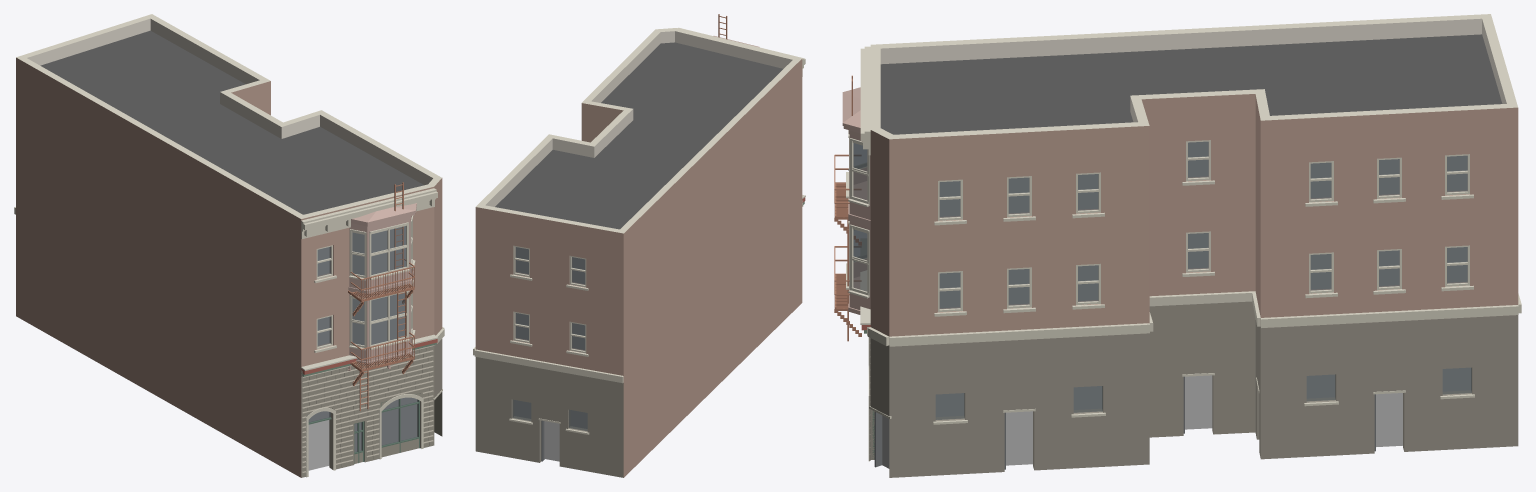
Rendered from exterior.glb.
The picture shows the model from 3 angles, left to right: view 1: azimuth 30°, elevation 25°; view 2: azimuth 150°, elevation 25°; view 3: azimuth 270°, elevation 25°; orthographic projection. The views are drawn at different scales.
Parts seen in each view (by area): view 1: shell, roof, shadow-proxy, bay-glazing-hyb, bay-windows-hyb, hyD-rubble-7, fire-escape, glazing, trim, storefront, hyC-arches-7, hand-ornament (+1 smaller); view 2: shell, roof, shadow-proxy, glazing, trim, frames; view 3: shell, roof, shadow-proxy, glazing, trim, frames, bay-glazing-hyb, bay-windows-hyb, fire-escape, storefront.
Part boxes in pixels (x1=…): shell: x1=16, y1=14, x2=442, y2=477; roof: x1=40, y1=30, x2=423, y2=214; shadow-proxy: x1=308, y1=226, x2=416, y2=470; bay-glazing-hyb: x1=349, y1=215, x2=415, y2=350; bay-windows-hyb: x1=347, y1=203, x2=416, y2=370; hyD-rubble-7: x1=302, y1=345, x2=433, y2=472; fire-escape: x1=348, y1=182, x2=414, y2=411; glazing: x1=308, y1=246, x2=418, y2=452; trim: x1=14, y1=188, x2=444, y2=377; storefront: x1=308, y1=389, x2=442, y2=463; hyC-arches-7: x1=306, y1=393, x2=423, y2=477; hand-ornament: x1=301, y1=334, x2=438, y2=376; shell: x1=475, y1=28, x2=802, y2=477; roof: x1=495, y1=42, x2=782, y2=229; shadow-proxy: x1=514, y1=247, x2=587, y2=461; glazing: x1=512, y1=247, x2=587, y2=430; trim: x1=473, y1=27, x2=805, y2=434; frames: x1=513, y1=245, x2=586, y2=353; shell: x1=870, y1=14, x2=1518, y2=477; roof: x1=880, y1=34, x2=1502, y2=134; shadow-proxy: x1=882, y1=142, x2=1470, y2=468; glazing: x1=935, y1=141, x2=1471, y2=419; trim: x1=860, y1=46, x2=1521, y2=424; frames: x1=938, y1=140, x2=1469, y2=312; bay-glazing-hyb: x1=846, y1=130, x2=869, y2=298; bay-windows-hyb: x1=842, y1=87, x2=870, y2=314; fire-escape: x1=834, y1=75, x2=861, y2=341; storefront: x1=869, y1=373, x2=1405, y2=469.
Bounding box in the file's own units: 10.08 × 13.43 × 23.06.
